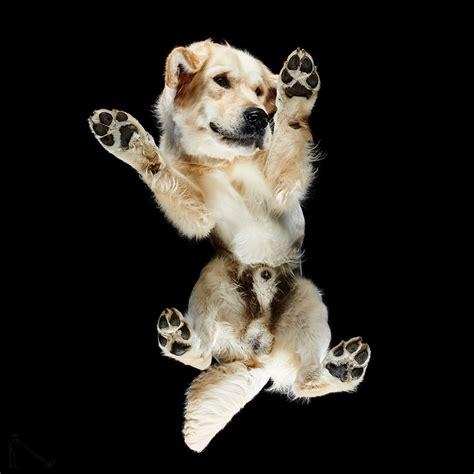dog: (89, 42, 369, 451)
